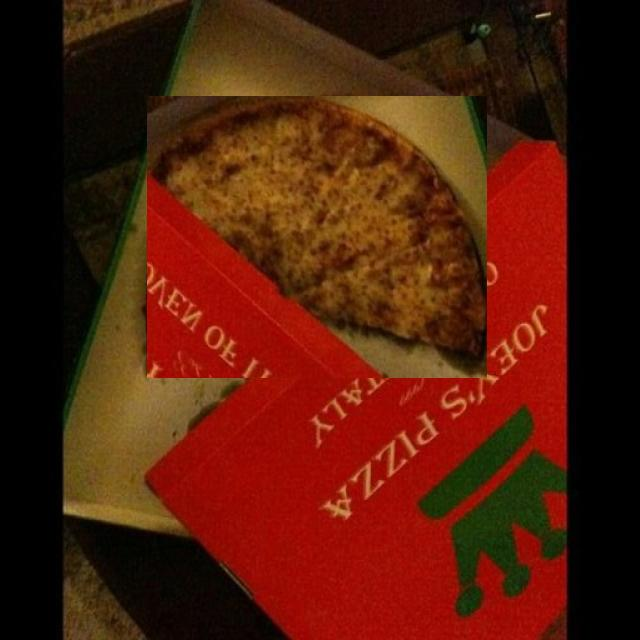pizza: (146, 96, 486, 378)
